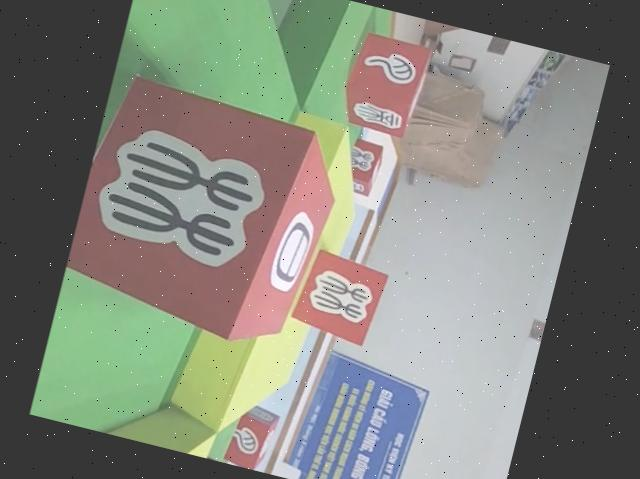R2 Fake: (59, 65, 358, 359), (335, 24, 438, 143), (286, 243, 395, 351), (219, 397, 284, 474), (336, 134, 390, 199)
